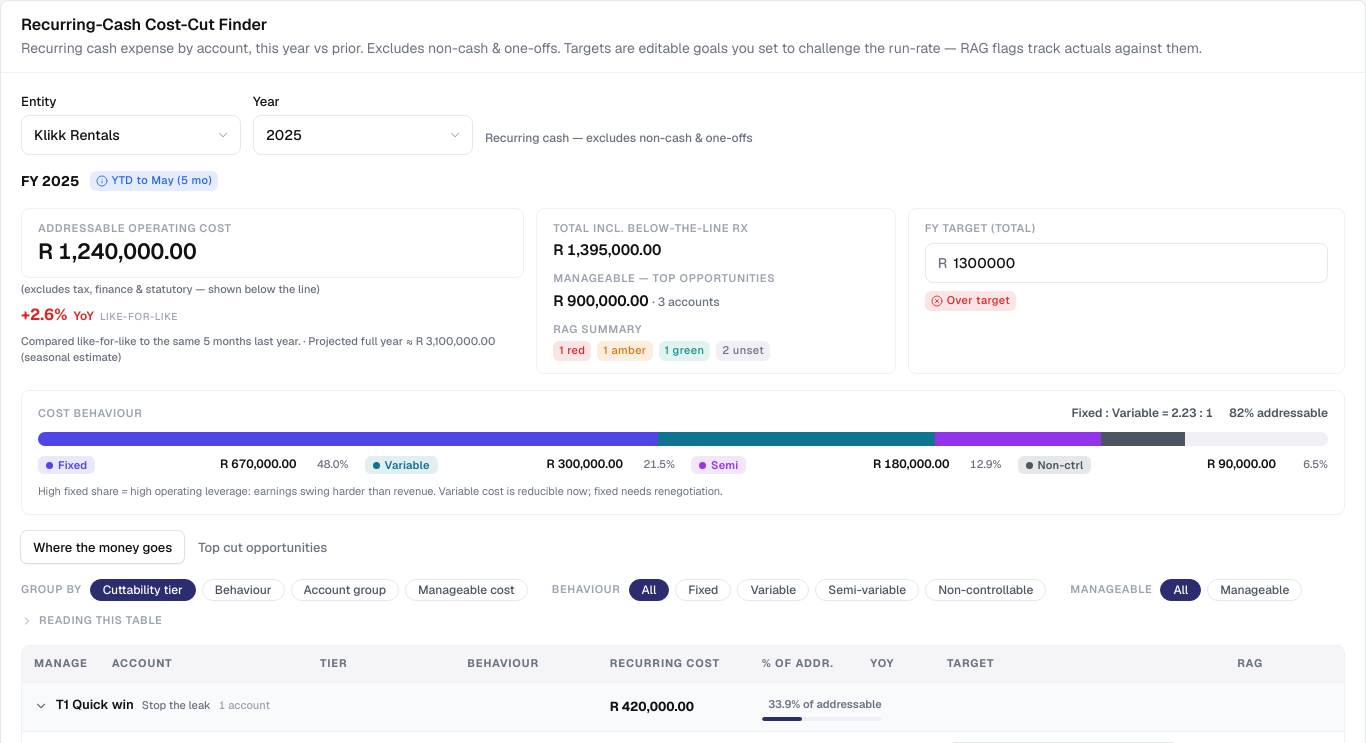
Scenario: B-polish — % of addressable header + legend collapse › the "Reading this table" legend is collapsed by default (aria-expanded=false, body hidden) and expands on click
Click the button with class "cost-cut__legend-toggle". click: {"x": 101, "y": 620}
box: [17,611,1349,631]
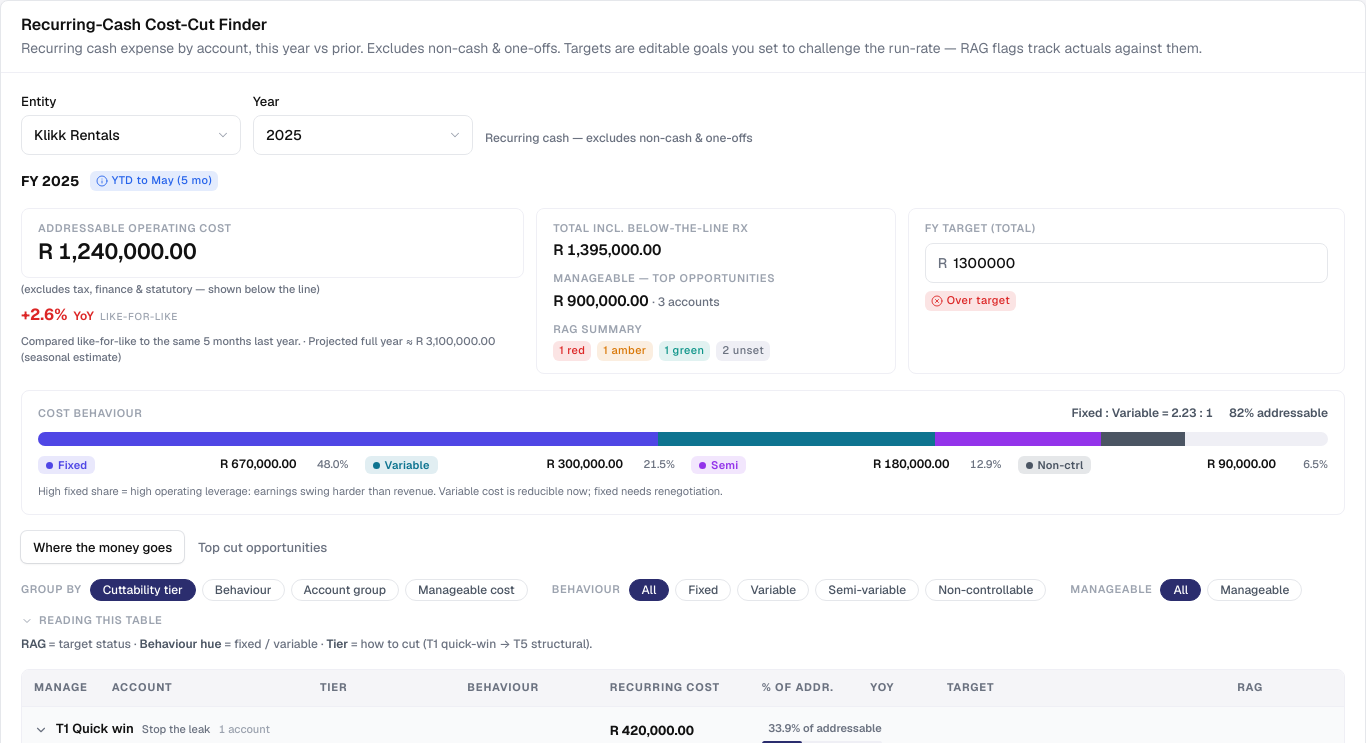
Now the button with class "cost-cut__legend-toggle" is expanded, box [17,611,1349,631]
